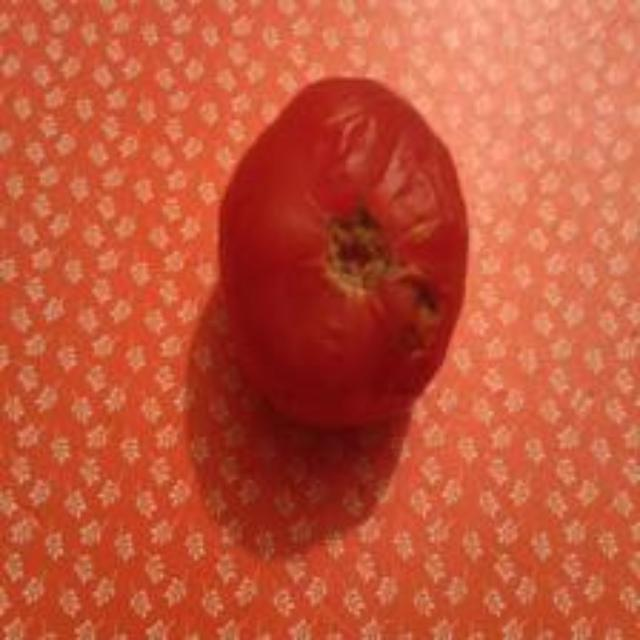defect: (213, 70, 473, 433)
